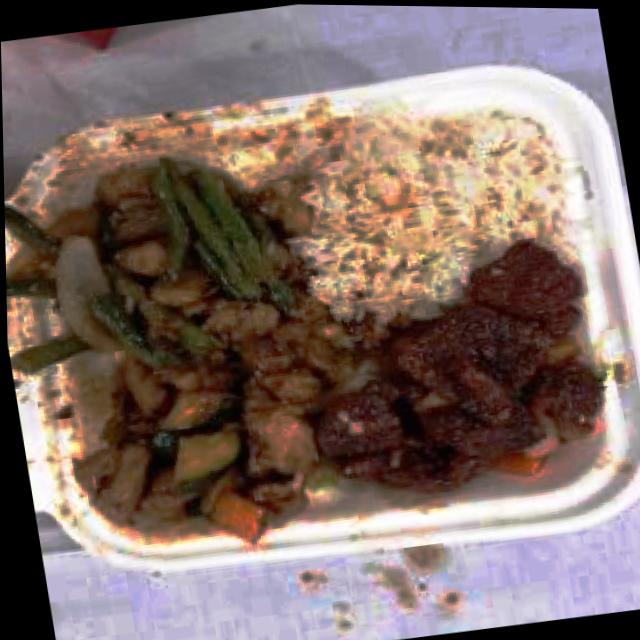Kung Pao Chicken: (88, 328, 322, 550)
String Bean Chicken Breast: (13, 145, 316, 355)
burger: (333, 297, 594, 499)
rice: (297, 108, 576, 260), (316, 239, 462, 317)
